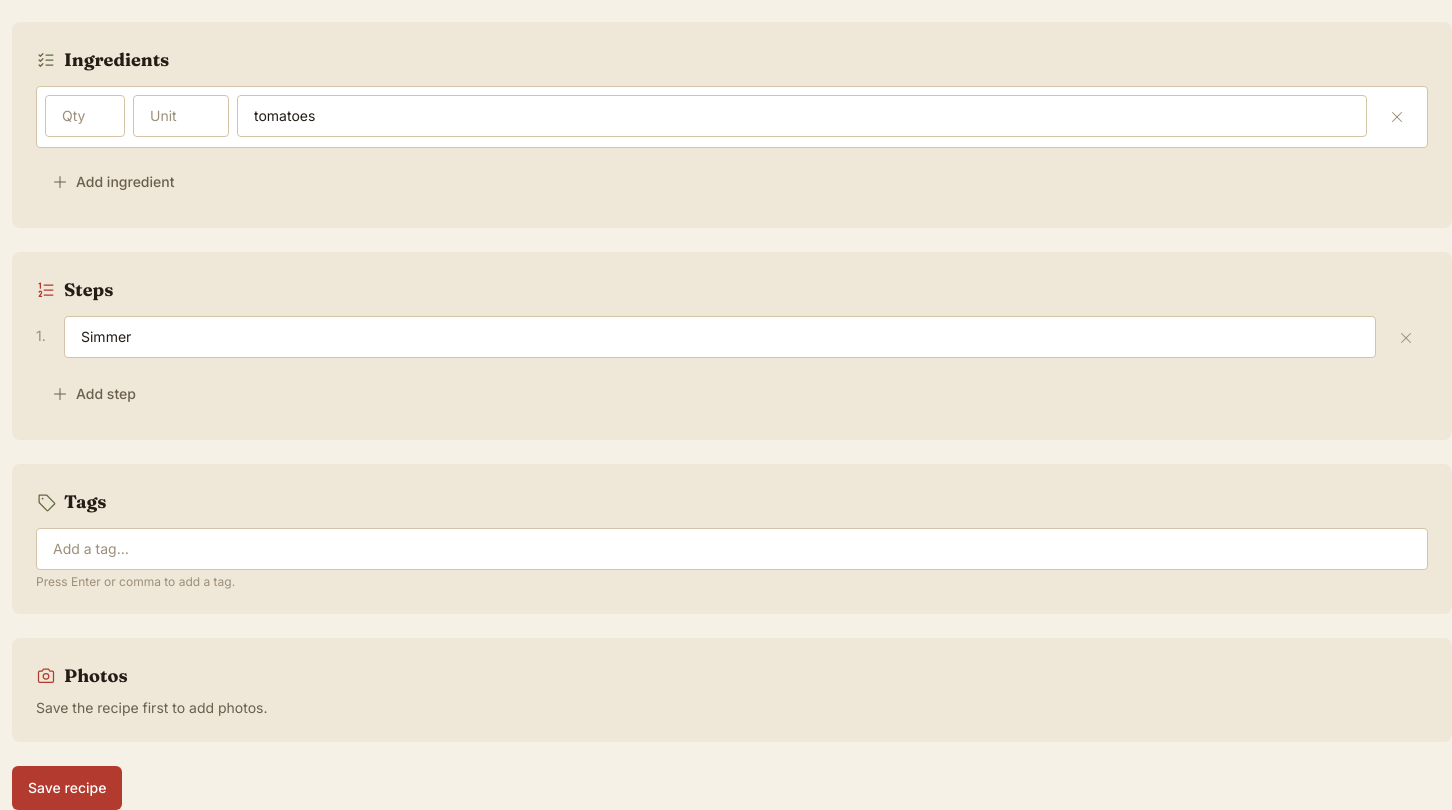
RecipeFormPage › toasts but still saves when the imported photo fails to attach
(page scrolled)
What coordinates should you click on to do the following:
click the button "Save recipe"
I would click on:
 (67, 788)
Its box is [12,766,122,809].
(page scrolled)
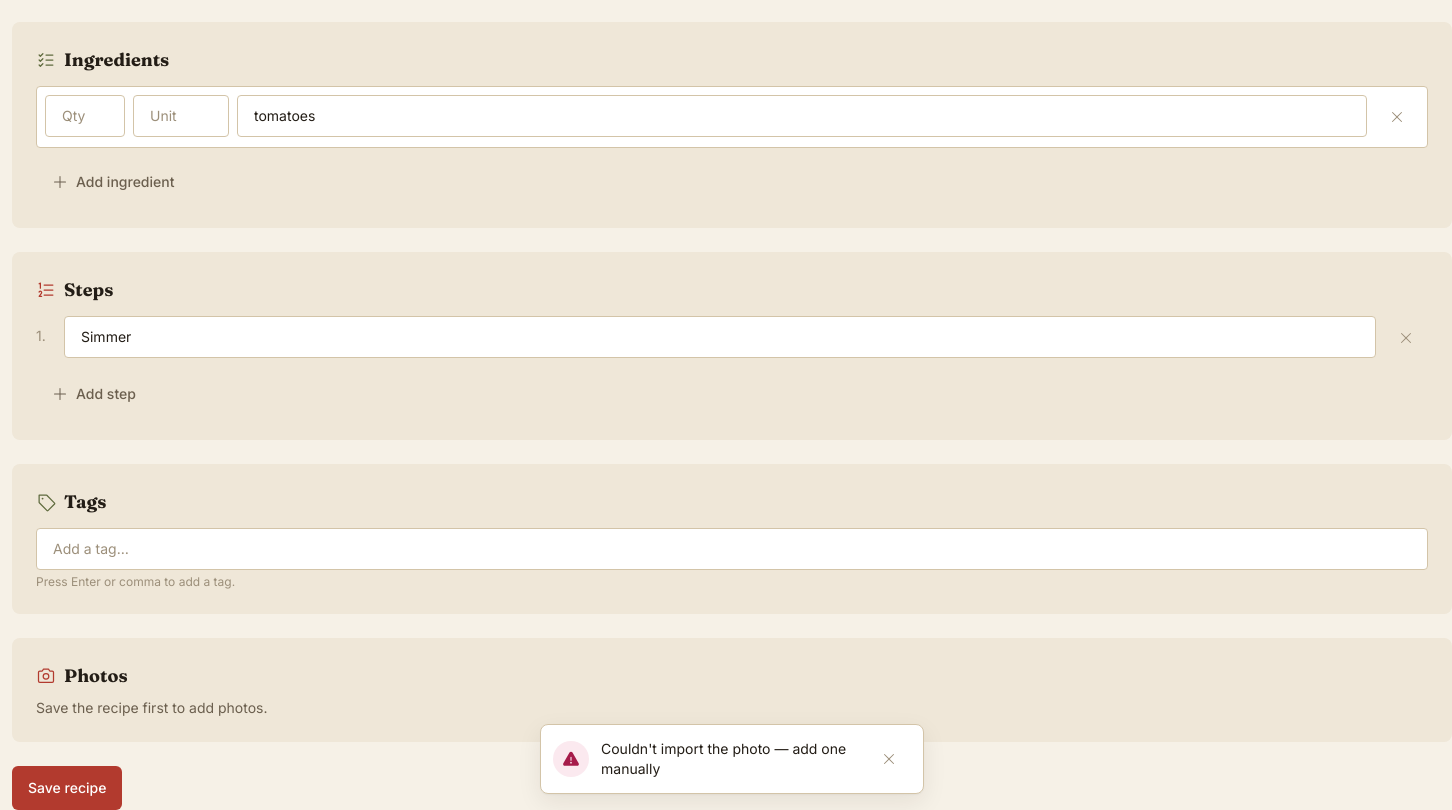
Expected: the text "Couldn't import the photo — add one manually" is shown, [601,739,855,779]
